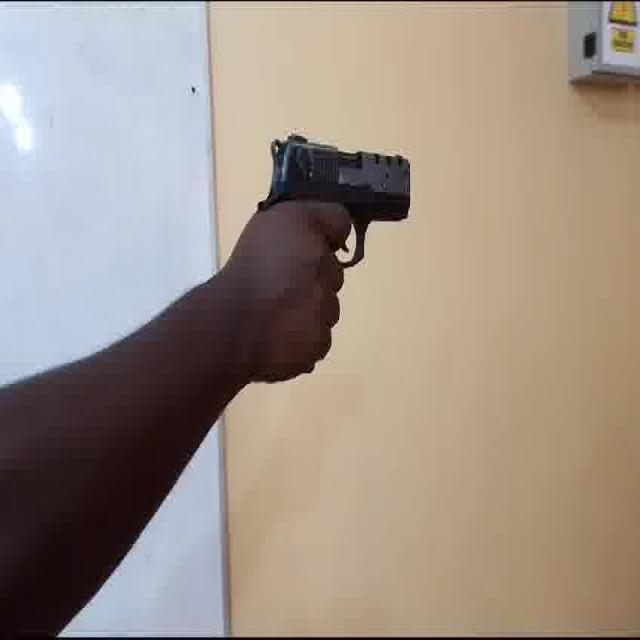weapon: (1, 131, 412, 637)
